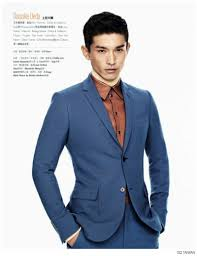asian_male: (74, 21, 137, 83)
